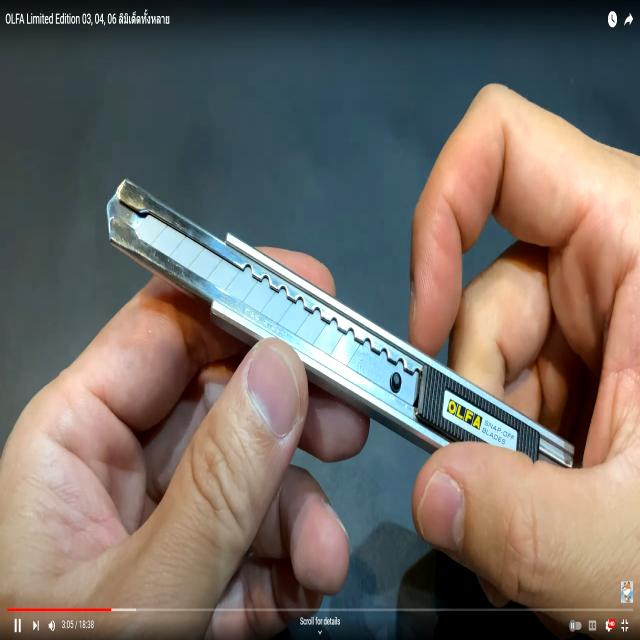cutter: (92, 94, 640, 569)
